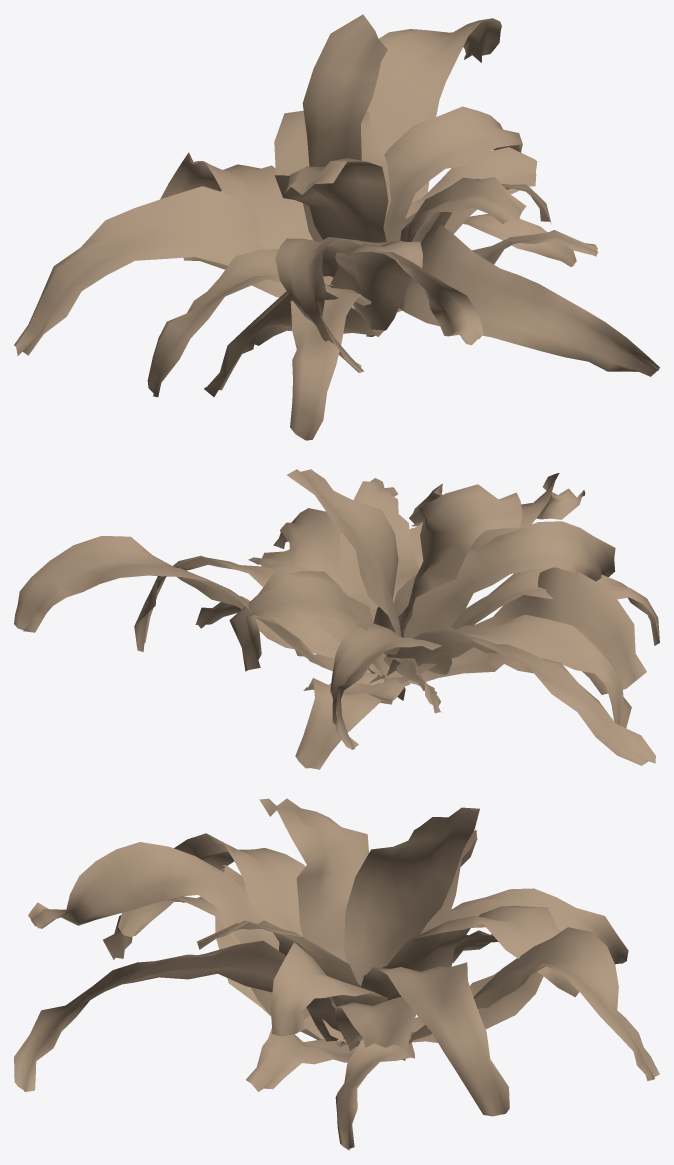
File: fern-clump-lod0.glb
The picture shows the model from 3 angles, top to bottom: view 1: azimuth 30°, elevation 25°; view 2: azimuth 150°, elevation 25°; view 3: azimuth 270°, elevation 25°; orthographic projection. The views are drawn at different scales.
Parts seen in each view (by area): view 1: foliage; view 2: foliage; view 3: foliage.
Part boxes in pixels (left/top/right/bottom): foliage: left=14, top=14, right=659, bottom=440; foliage: left=14, top=469, right=659, bottom=769; foliage: left=14, top=798, right=659, bottom=1150.
Size of the model in its own units: 0.9897 by 0.4277 by 0.8937.
